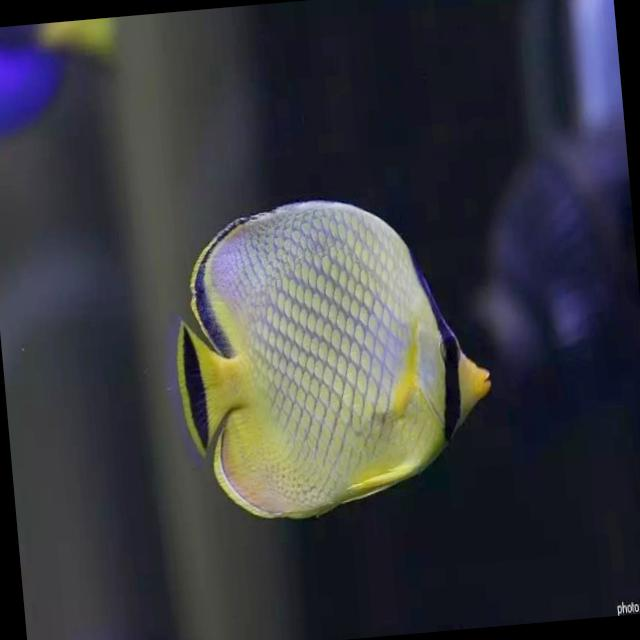ButterflyFish: (163, 183, 502, 531)
